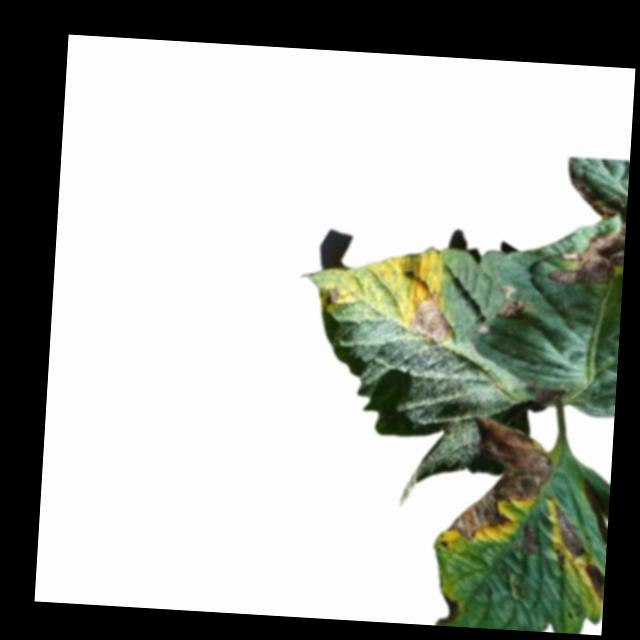Early_blight: (445, 411, 555, 550), (548, 174, 628, 290), (406, 288, 455, 346), (550, 499, 589, 559), (497, 285, 527, 320), (433, 591, 460, 626), (584, 561, 605, 600), (322, 283, 343, 307)
